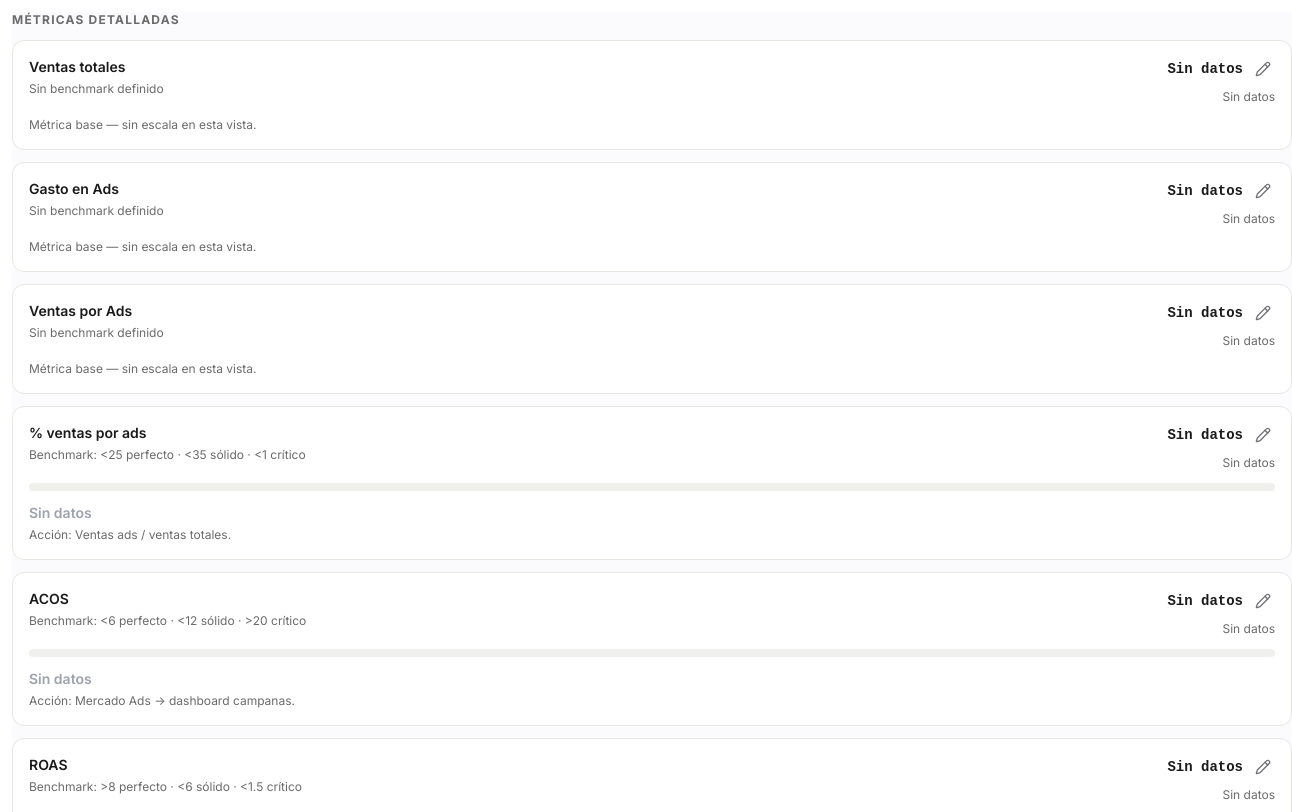
Scenario: BlockMetricsEditor › renders field-level error below the % input when ventas_totales is null and user tries to save
Click the button named "Editar % ventas por ads" at x=1263, y=435, box [1251,423,1275,447]
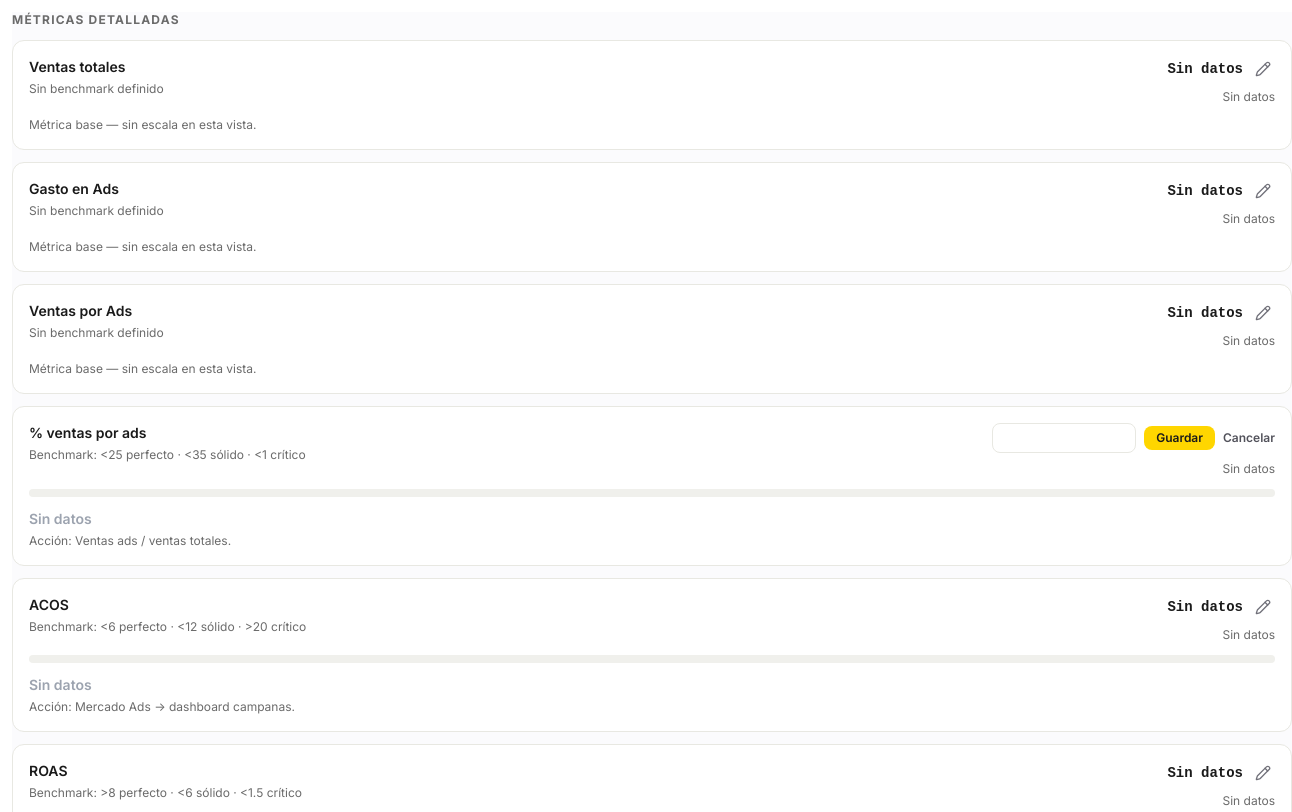
Type "10" into the field named "Editar % ventas por ads" at x=1064, y=438, box [992,423,1136,453]
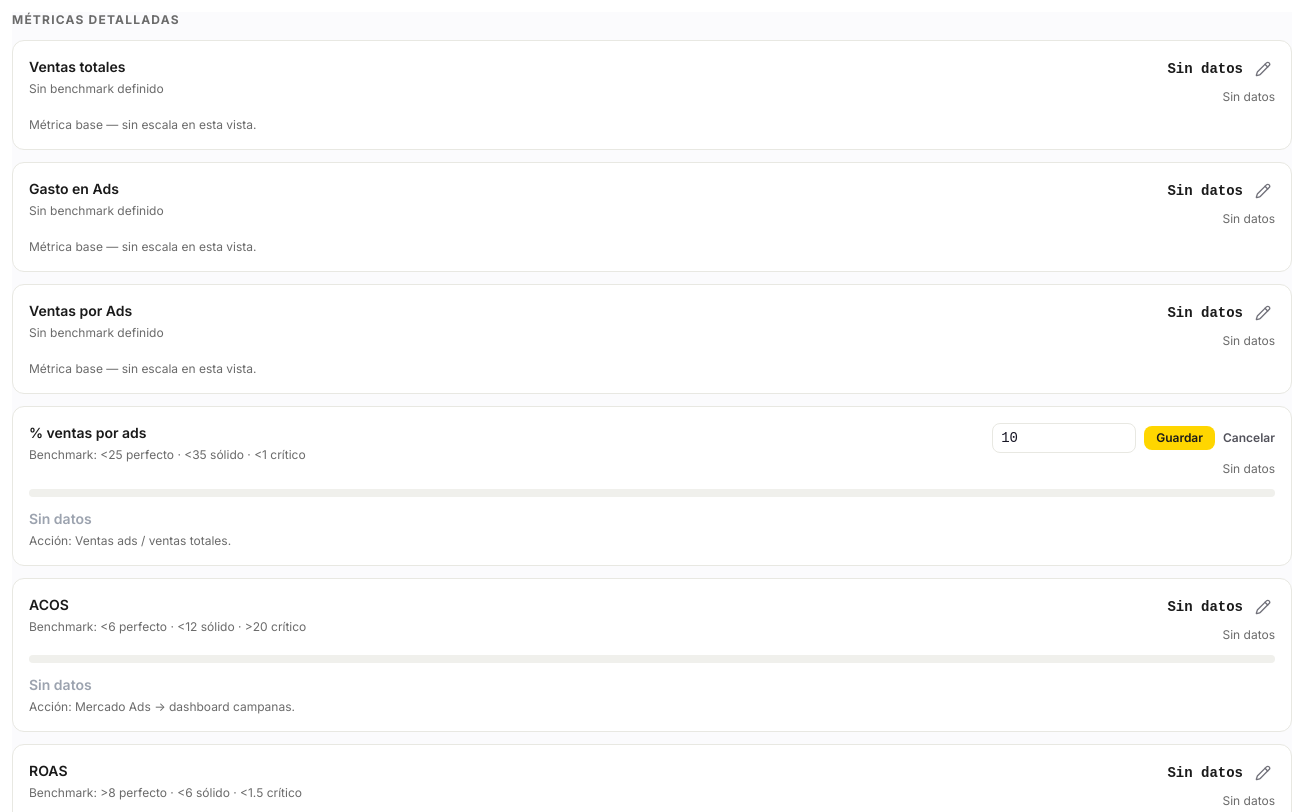
Click the button "Guardar" at x=1180, y=438, box [1144,426,1215,450]
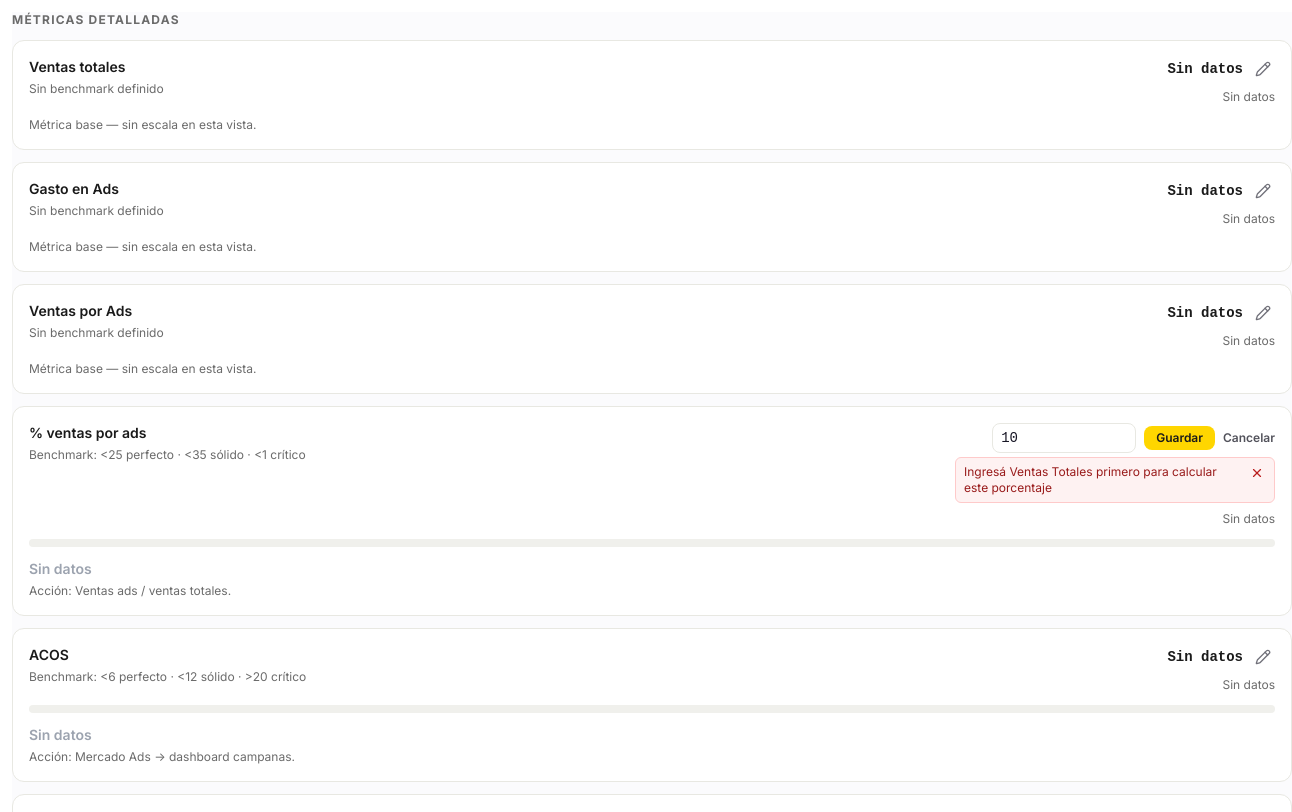
Result: the message shows "Ingresá Ventas Totales primero" at [964,464,1217,495]
